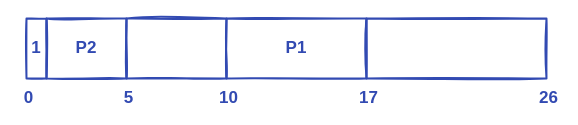
Image size: 578x125. Some labels were removed from this diagram. Each missing label, with the centre of its shape:
P3: (x=456, y=48)
P4: (x=176, y=48)
